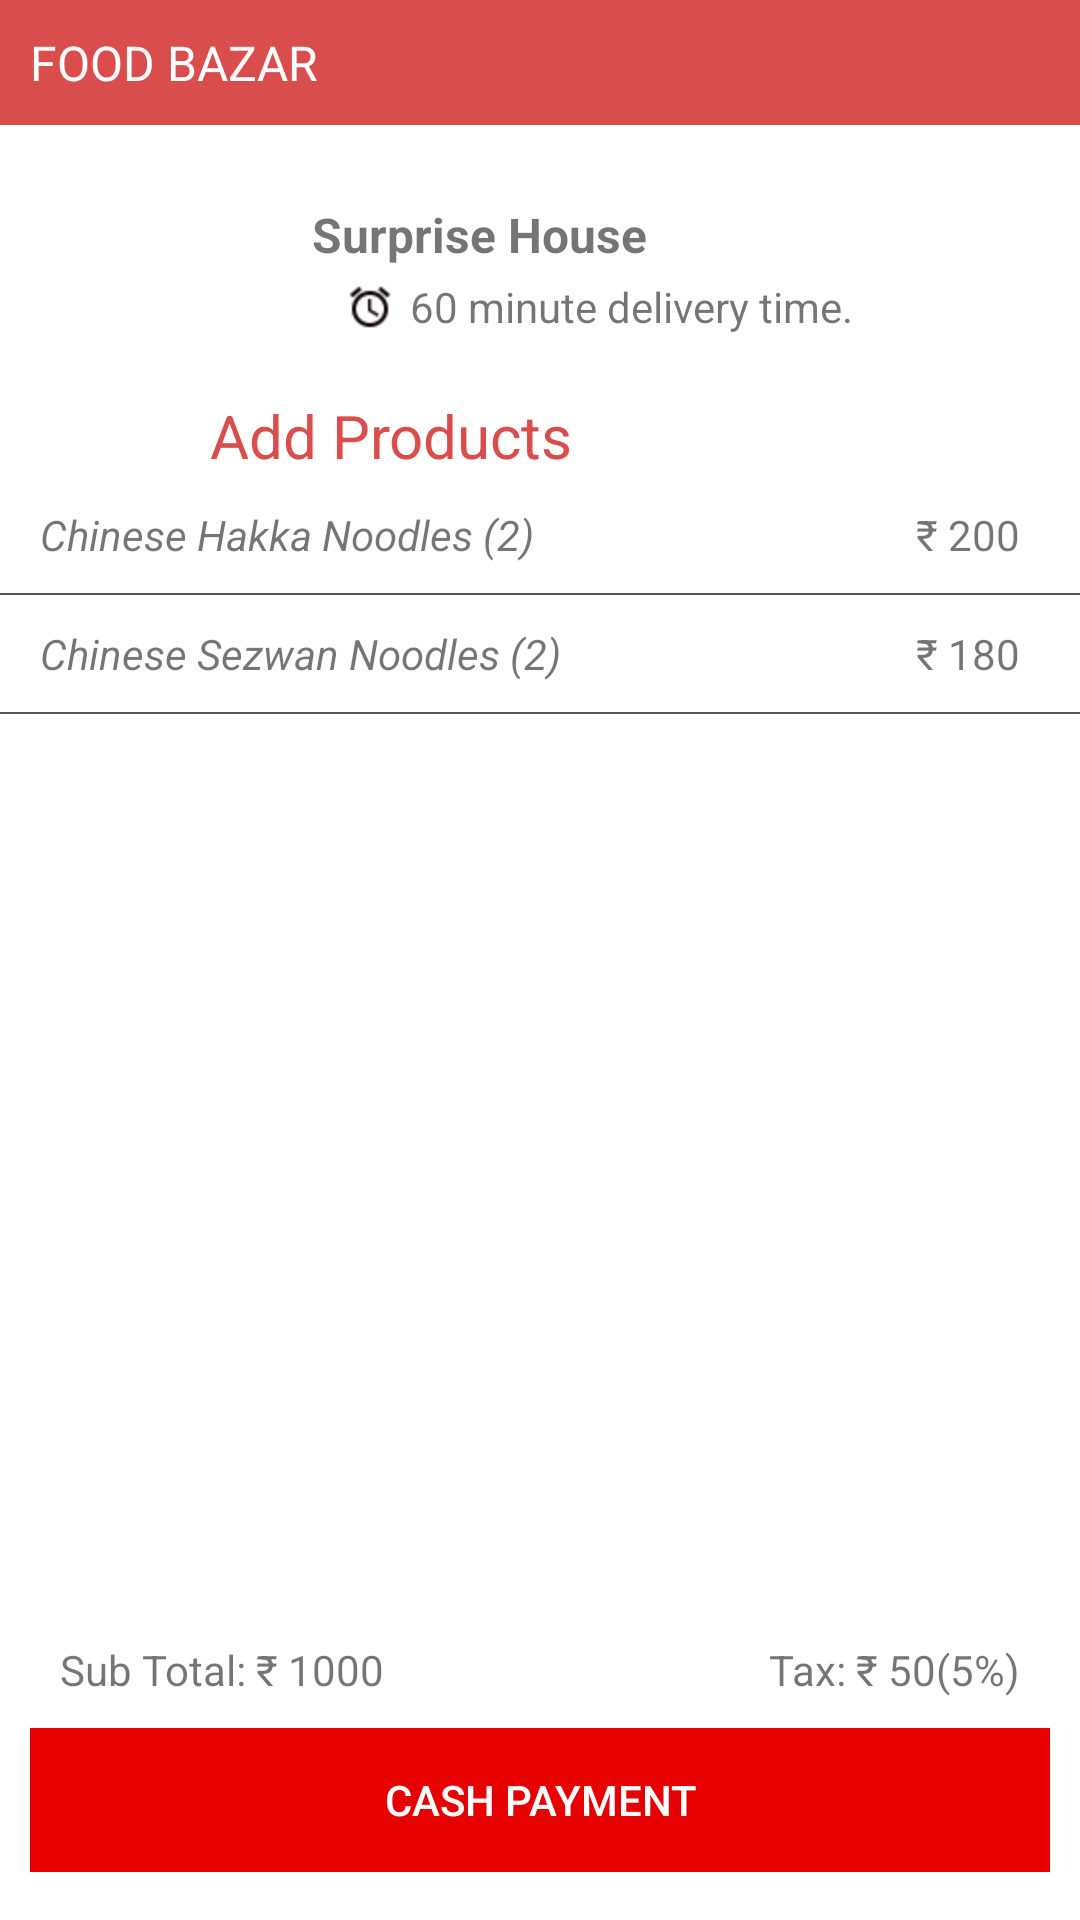

Named icons in this screenshot (1080×1920) and their bounding boxes, (x1, y1, x2, y2):
alarm: (349, 286, 391, 328)
